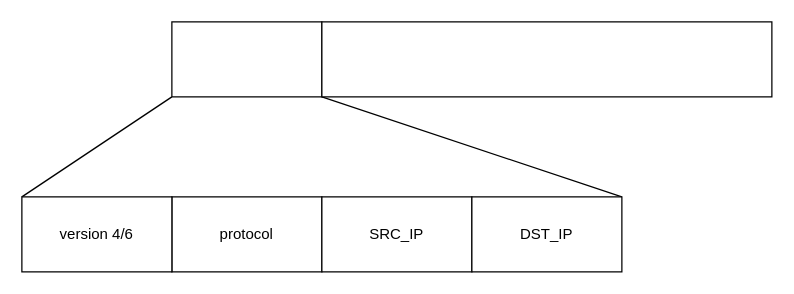
The diagram is 794 pixels wide and 294 high, and some of its shapes have lost their labels. The shapes that lost their labels are listed below. From the top down, each one's box as (x1, y1, x2, y2) in pixels, then its label:
(171, 21, 322, 97): cabecera
(321, 21, 772, 97): payload
